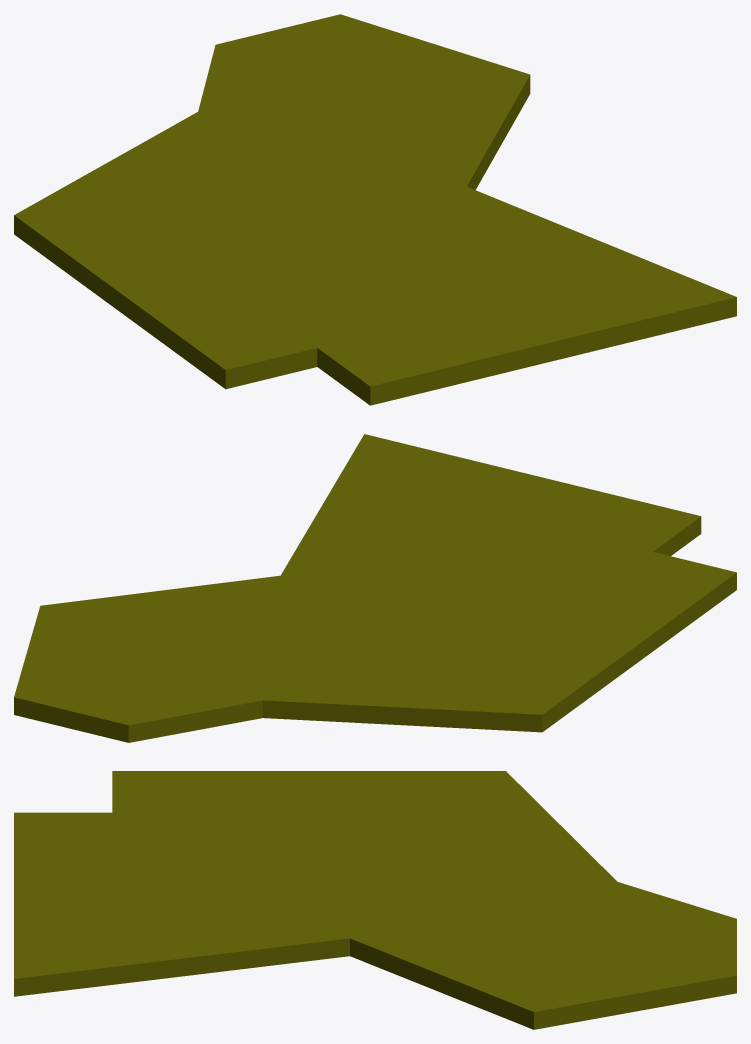
File: x_0_boloto_35_1_rmstrd.fbx
The picture shows the model from 3 angles, top to bottom: view 1: azimuth 30°, elevation 25°; view 2: azimuth 150°, elevation 25°; view 3: azimuth 270°, elevation 25°; orthographic projection. The views are drawn at different scales.
Visible parts, largest first — view 1: x_0_boloto_35_1_rmstrd1; view 2: x_0_boloto_35_1_rmstrd1; view 3: x_0_boloto_35_1_rmstrd1.
Boxes of the visible parts, x1=… form: x_0_boloto_35_1_rmstrd1: x1=14, y1=14, x2=736, y2=405; x_0_boloto_35_1_rmstrd1: x1=14, y1=434, x2=736, y2=742; x_0_boloto_35_1_rmstrd1: x1=14, y1=771, x2=736, y2=1029.
Bounding box in the file's own units: 5.8 × 0.2 × 7.35.
